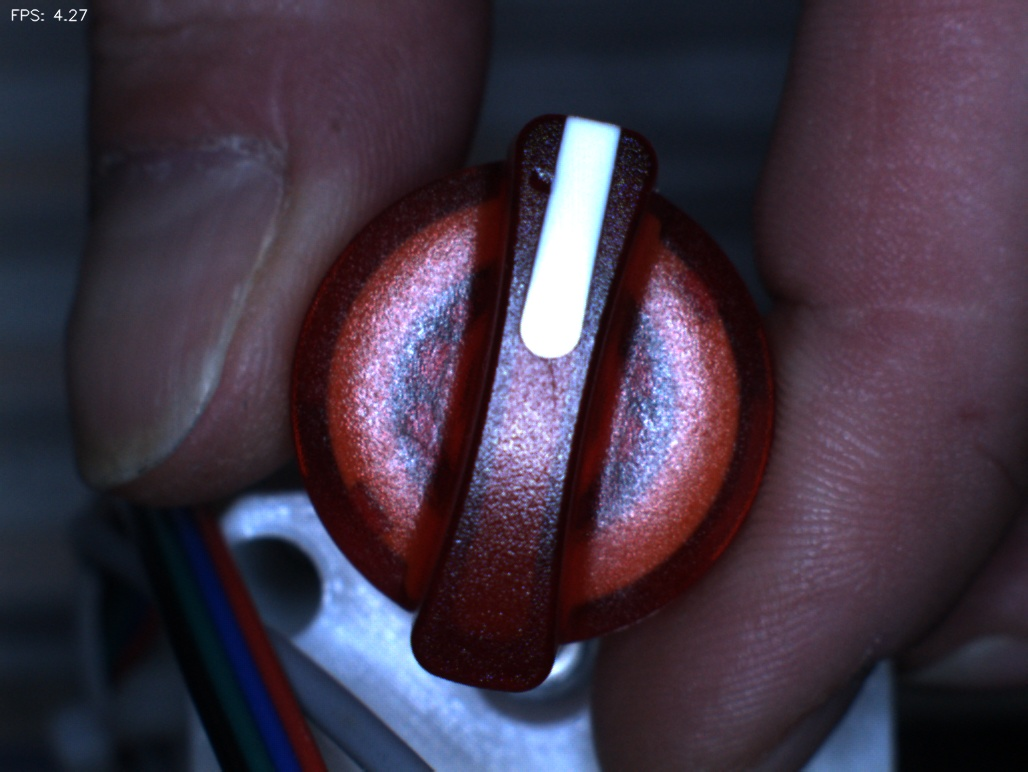Choc: (507, 137, 586, 216)
